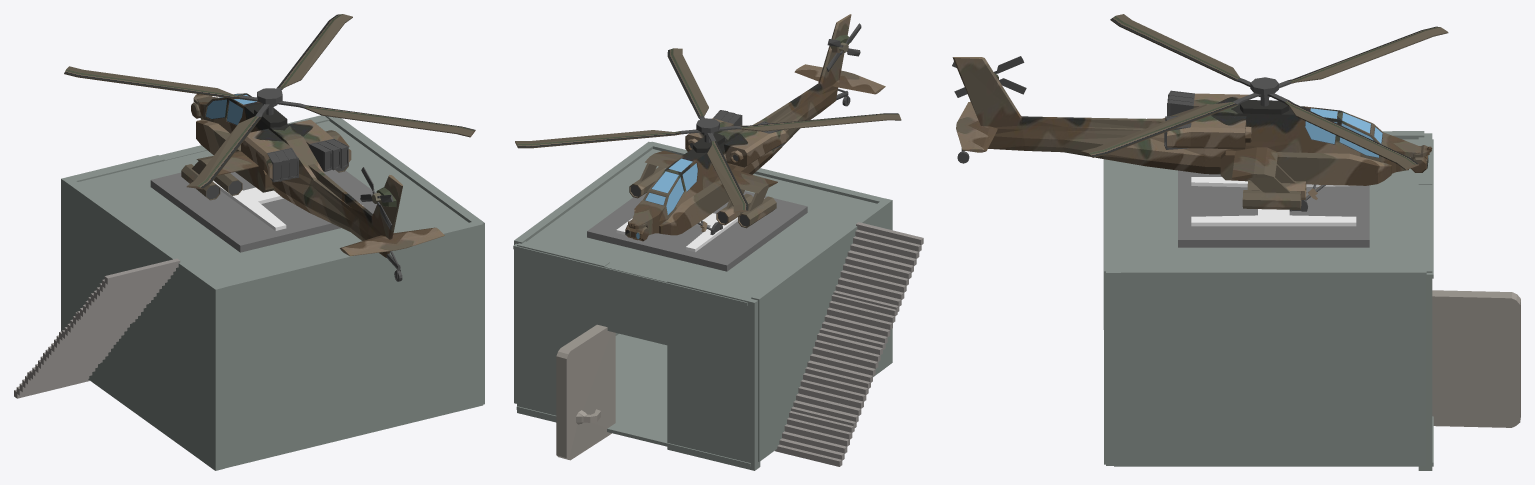
The model's file is base militar.gltf.
The picture shows the model from 3 angles, left to right: view 1: azimuth 30°, elevation 25°; view 2: azimuth 150°, elevation 25°; view 3: azimuth 270°, elevation 25°; orthographic projection. The views are drawn at different scales.
Visible parts, largest first — view 1: Cubo (×8), Cube_14, Cube.009_0, Cube.007_10, Cube.005_9, Cube.001_8; view 2: Cubo (×43), Cube_14, Cube.009_0, Cube.001_8, Cube.007_10; view 3: Cubo (×7), Cube_14, Cube.009_0, Cube.001_8, Cube.007_10, Cube.005_9.
Boxes of the visible parts, x1,y1,x2,y2 form: Cubo (×8): [61, 116, 484, 470]; Cube_14: [181, 93, 444, 257]; Cube.009_0: [64, 14, 475, 189]; Cube.007_10: [241, 119, 351, 179]; Cube.005_9: [267, 138, 348, 182]; Cube.001_8: [196, 119, 273, 192]; Cubo (×43): [513, 141, 923, 470]; Cube_14: [629, 14, 885, 234]; Cube.009_0: [515, 48, 901, 212]; Cube.001_8: [634, 167, 746, 235]; Cube.007_10: [685, 118, 786, 167]; Cubo (×7): [1104, 139, 1520, 470]; Cube_14: [952, 57, 1421, 209]; Cube.009_0: [1081, 14, 1448, 170]; Cube.001_8: [1220, 151, 1391, 211]; Cube.007_10: [1167, 93, 1251, 149]; Cube.005_9: [1164, 90, 1194, 149].
Size of the model in its own units: 9.29 by 8.04 by 12.25.
251 materials, 11 textured.
